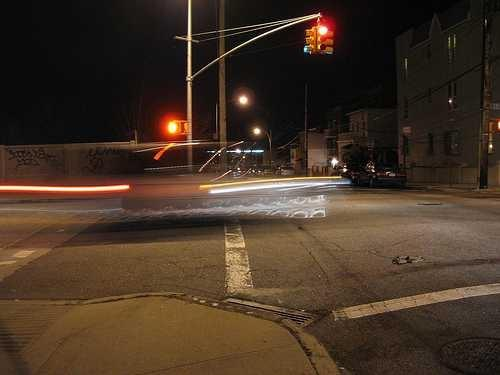red: (315, 25, 330, 56)
